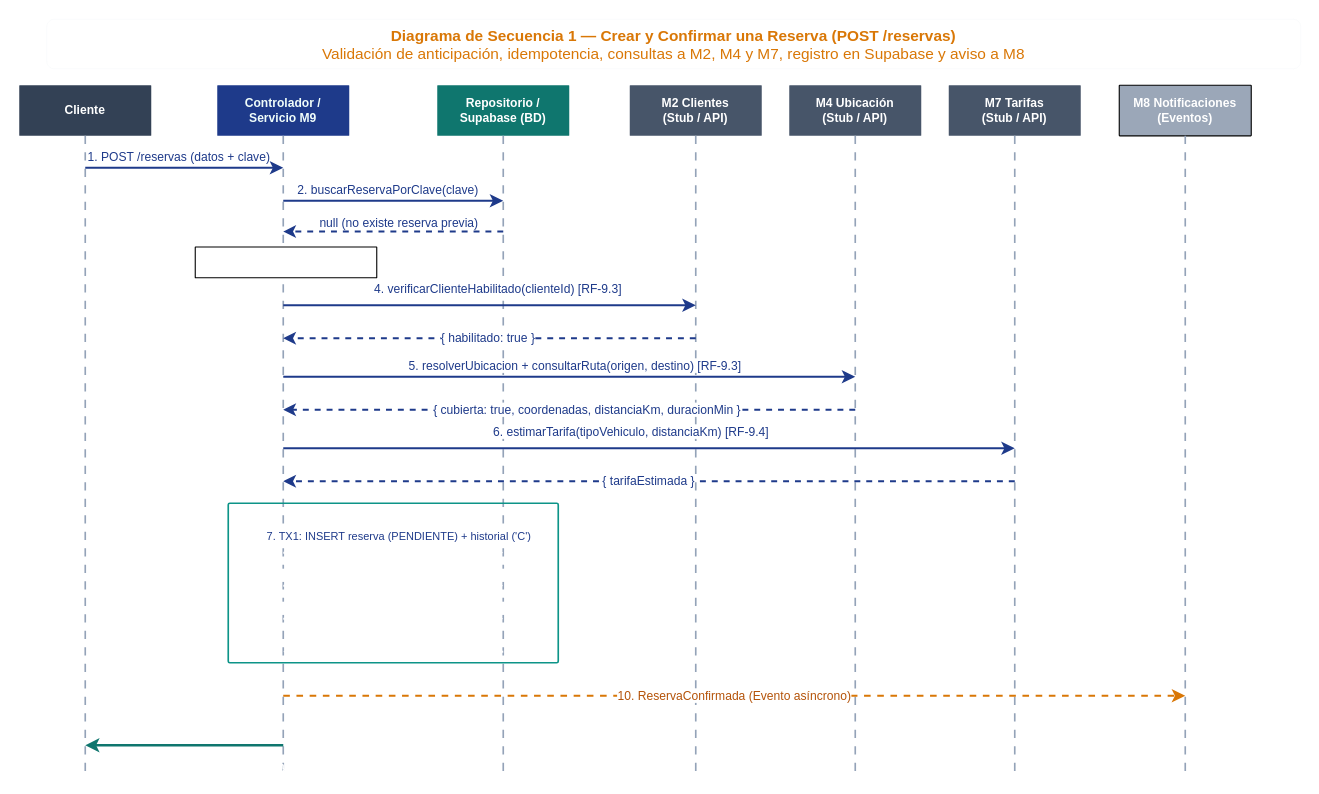
Some shapes in this 1319 by 794 pixel diagram are drawn without their labels. Here are the shapes that lost their labels. From the top down, the centre of each, then its label:
At point 285,262: "3. Validar ventana (60m - 30d)".
At point 393,582: "PERSISTENCIA Y CONFIRMACIÓN (RF-9.5 y RF-9.12)".
